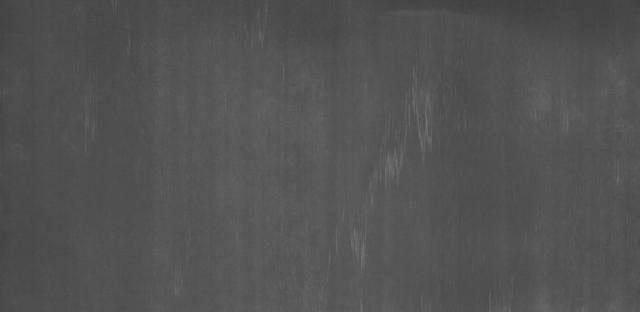silk_spot: (337, 55, 451, 270), (521, 73, 630, 142)
